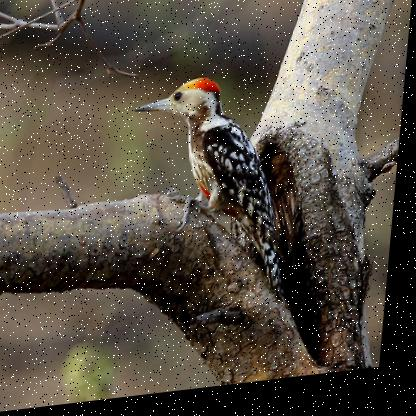Burung: (123, 72, 306, 320)
